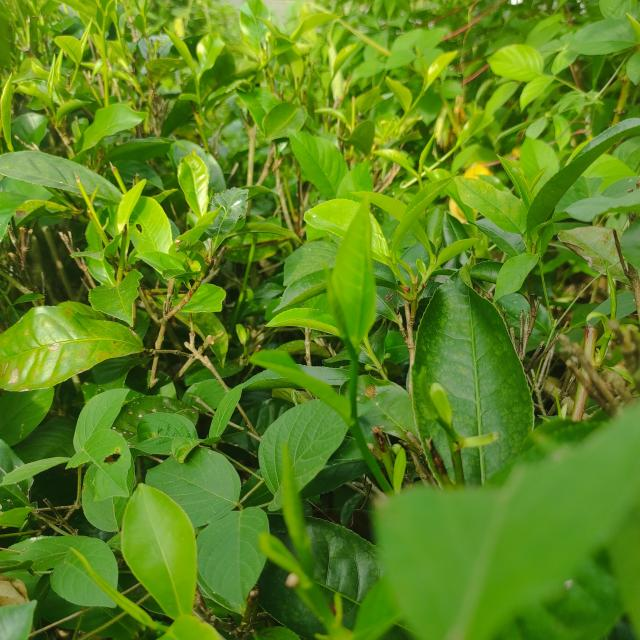unopened_leaf: (66, 541, 178, 632), (274, 434, 319, 584), (320, 252, 362, 363), (412, 43, 432, 85)
